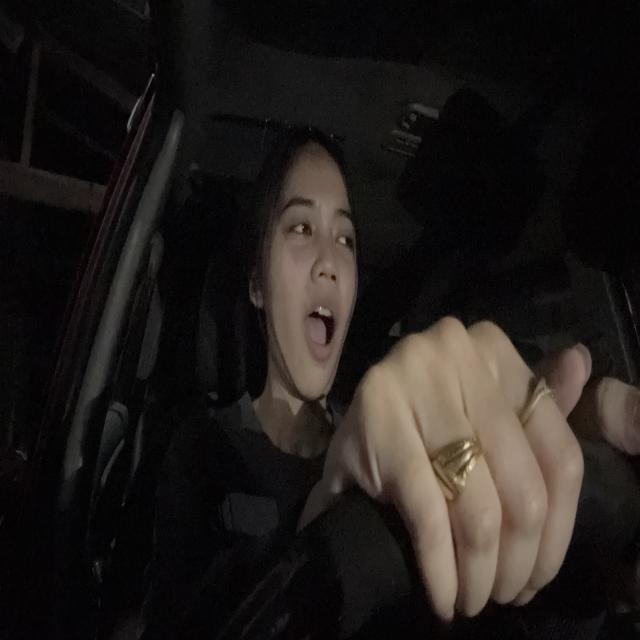open: (270, 198, 319, 248), (328, 195, 352, 257)
